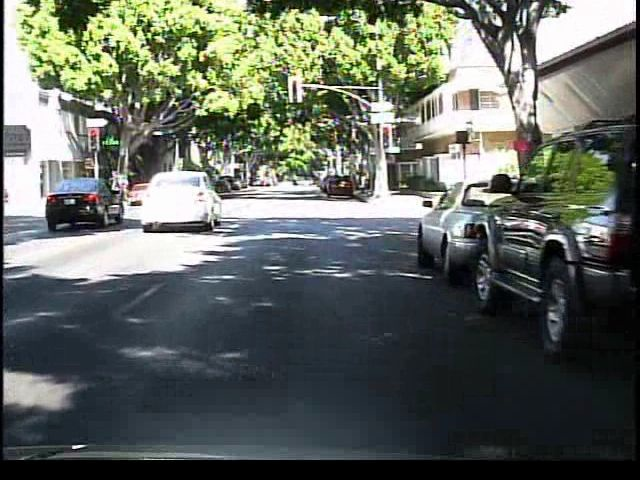person: (111, 162, 137, 203)
